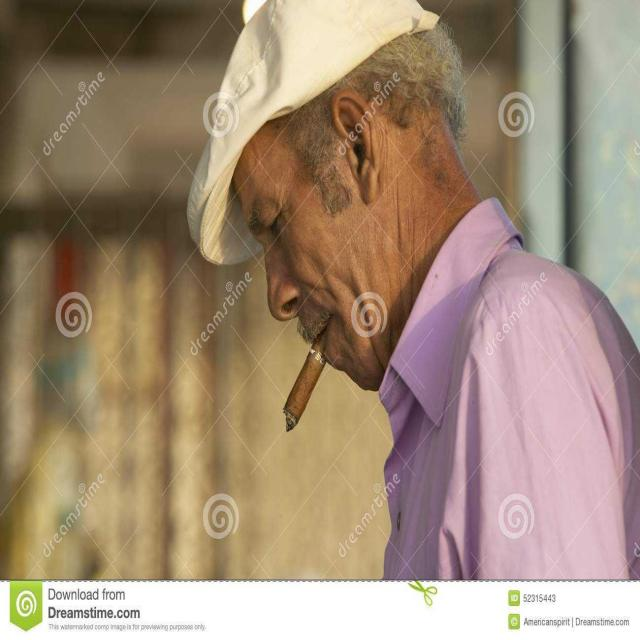Smooking: (281, 344, 334, 436)
